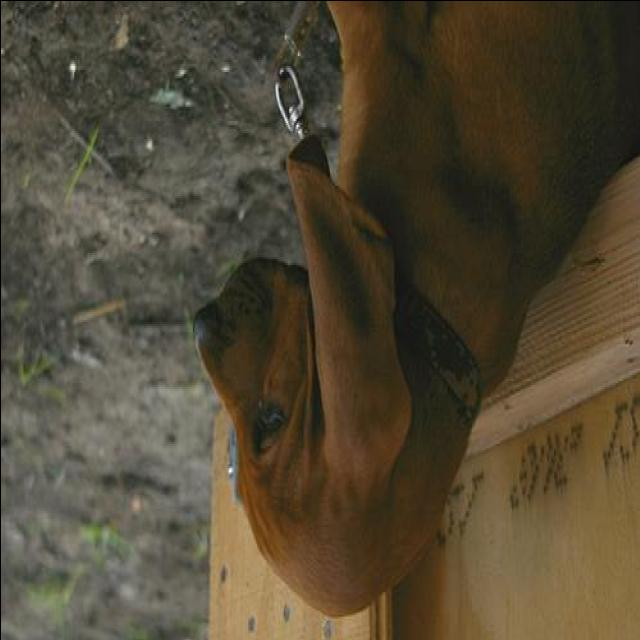bloodhound: (189, 2, 639, 620)
